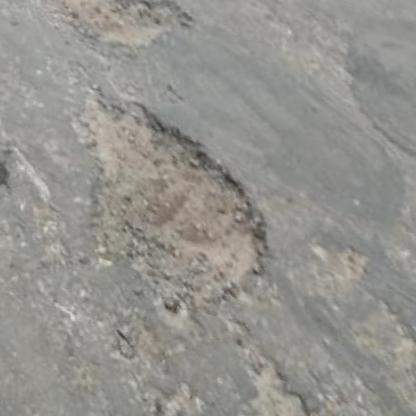pothole: (23, 78, 298, 330), (42, 0, 196, 64)
